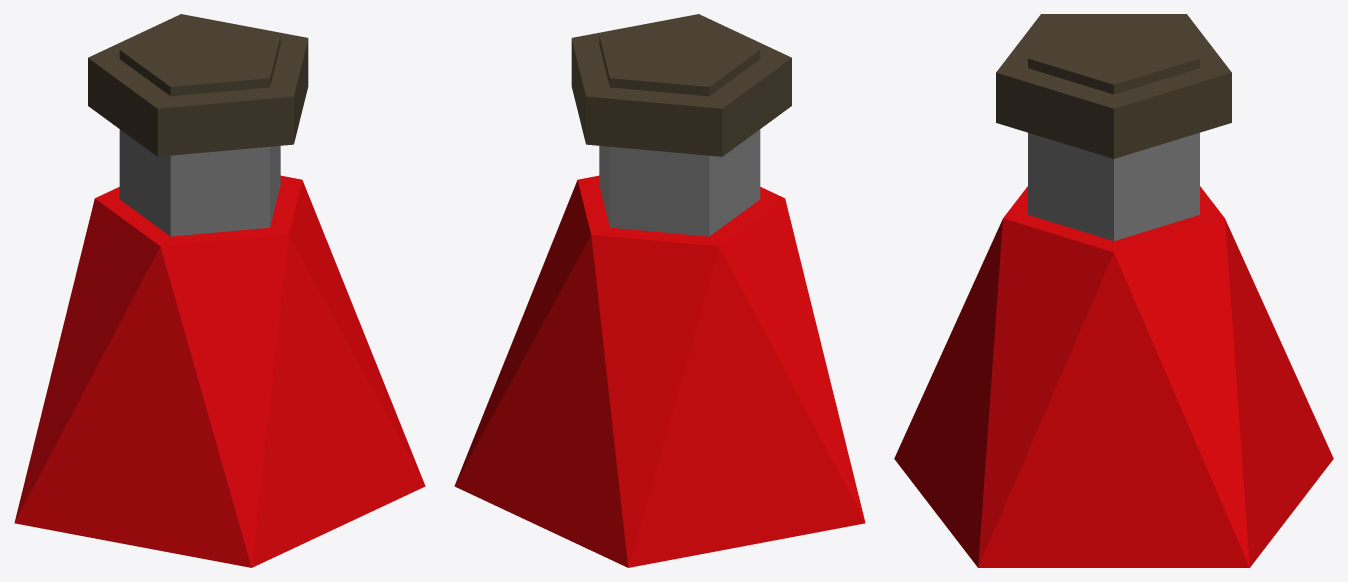
Rendered from Potion2.fbx.
3 renders of one model, left to right at view 1: azimuth 30°, elevation 25°; view 2: azimuth 150°, elevation 25°; view 3: azimuth 270°, elevation 25°, orthographic. The views are drawn at different scales.
Parts seen in each view (by area): view 1: Potion; view 2: Potion; view 3: Potion.
Part boxes in pixels (x1=…): Potion: x1=14, y1=14, x2=425, y2=567; Potion: x1=454, y1=14, x2=865, y2=567; Potion: x1=894, y1=14, x2=1333, y2=567.
Bounding box in the file's own units: 24.27 × 28.33 × 25.52.
